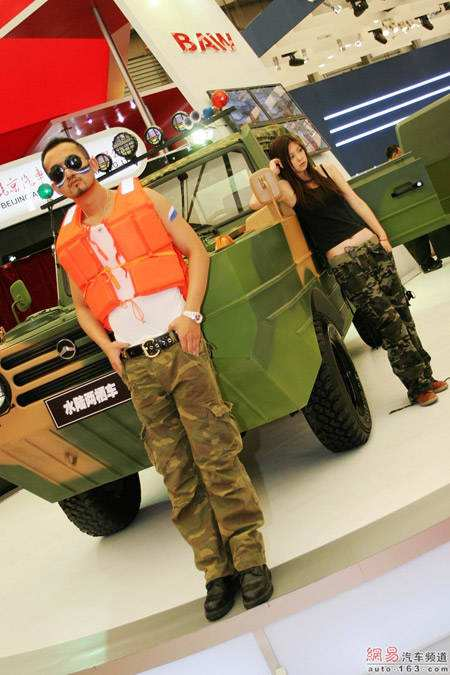other_clothes: (283, 167, 389, 269)
reflective_clothes: (50, 181, 210, 360)
